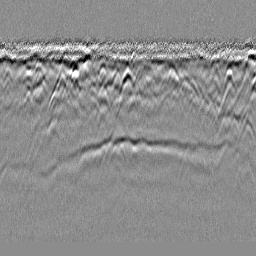cavity: (113, 67, 141, 114)
